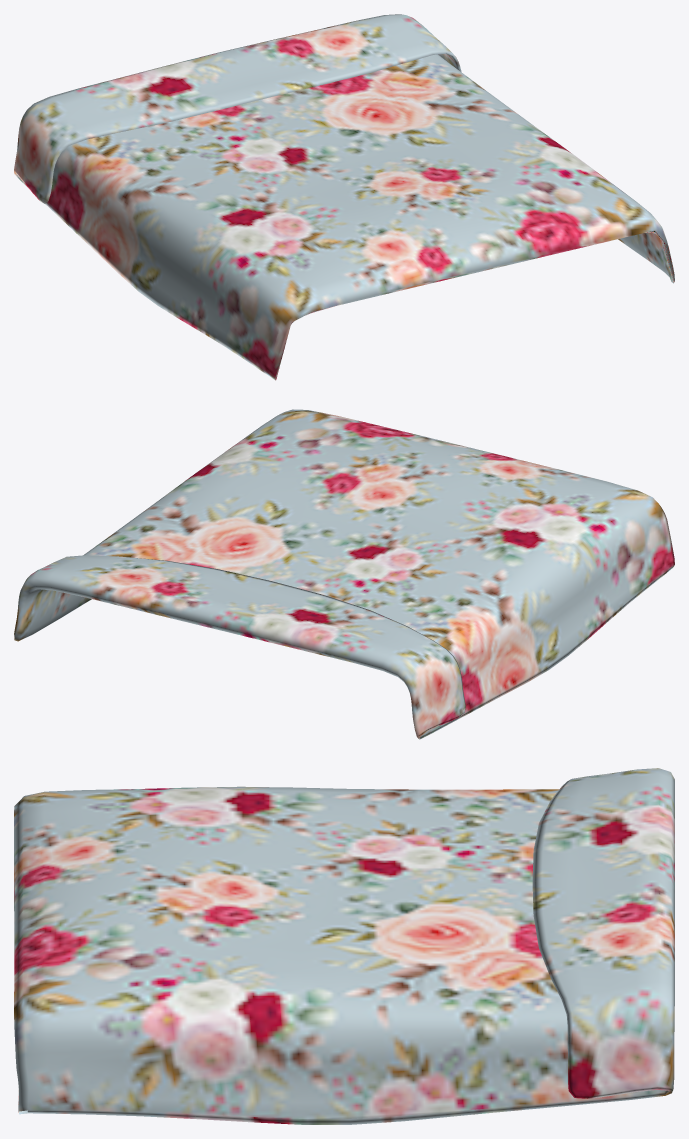
File: lyster_platform_1 .fbx
The picture shows the model from 3 angles, top to bottom: view 1: azimuth 30°, elevation 25°; view 2: azimuth 150°, elevation 25°; view 3: azimuth 270°, elevation 25°; orthographic projection. The views are drawn at different scales.
Parts seen in each view (by area): view 1: Lyster Platform Bed.002; view 2: Lyster Platform Bed.002; view 3: Lyster Platform Bed.002.
Boxes of the visible parts, bbox=[...] form: Lyster Platform Bed.002: bbox=[14, 14, 674, 380]; Lyster Platform Bed.002: bbox=[14, 409, 674, 739]; Lyster Platform Bed.002: bbox=[14, 768, 674, 1124].
Size of the model in its own units: 1.92 by 0.4351 by 2.07.
